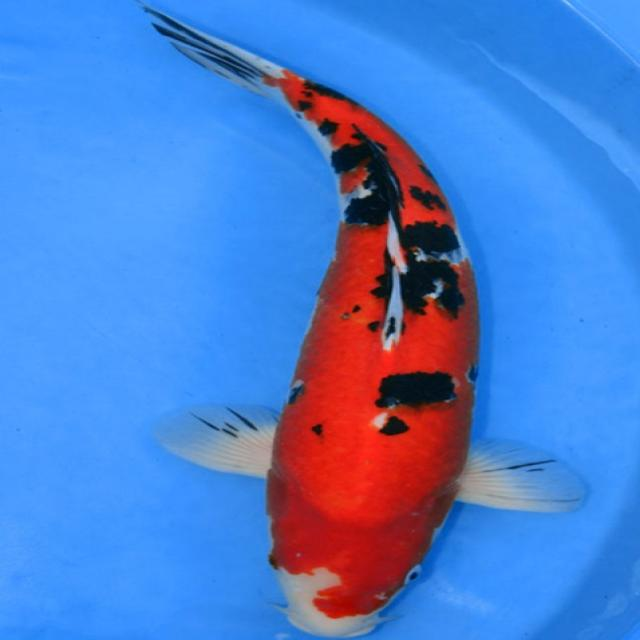Sanke: (132, 0, 588, 638)
